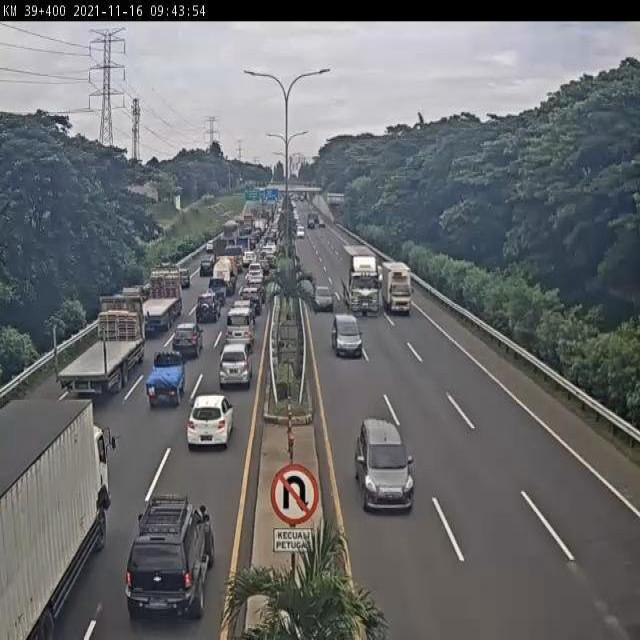car: (124, 495, 213, 624), (357, 418, 416, 514), (187, 392, 237, 452), (144, 349, 187, 408), (217, 344, 253, 395), (333, 313, 363, 360), (171, 324, 203, 363), (225, 308, 254, 349), (193, 294, 220, 329), (312, 281, 333, 312), (207, 279, 227, 305), (175, 267, 193, 293)
small truck: (380, 259, 414, 320)
truck-l-: (51, 293, 148, 403), (131, 269, 181, 347), (340, 241, 381, 315)
